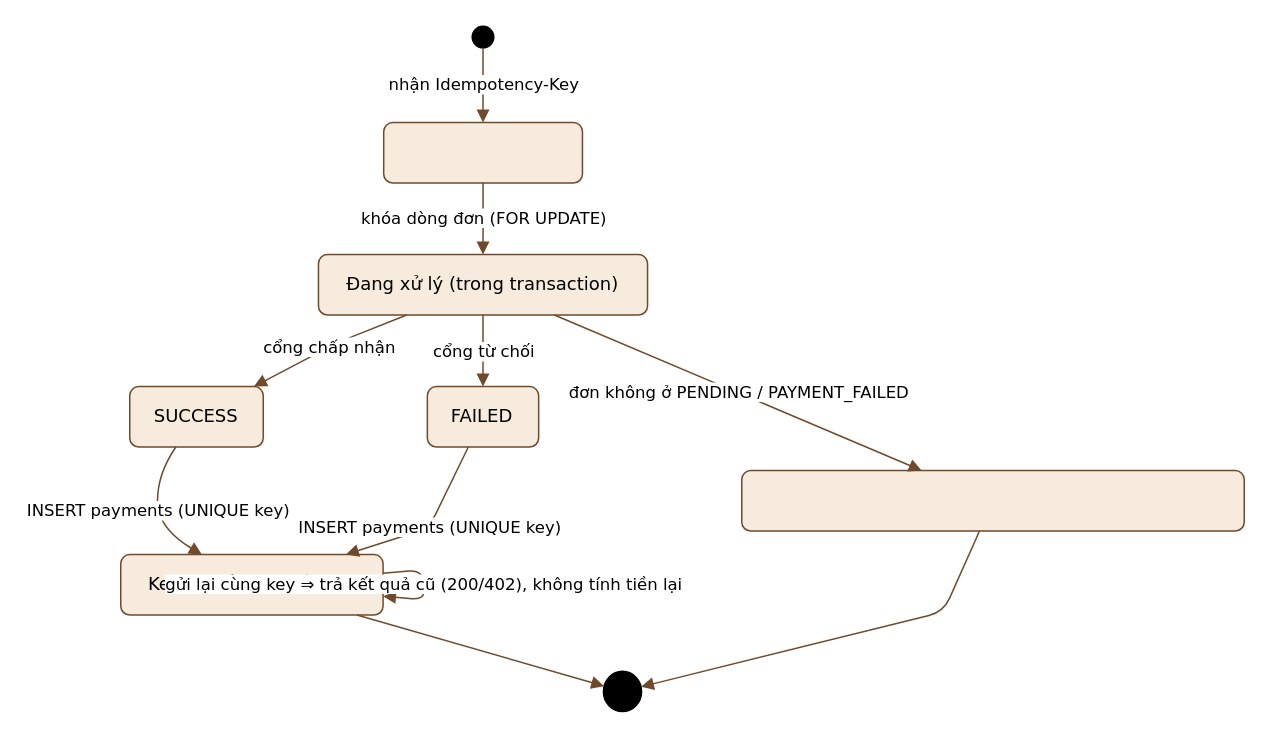
Image size: 1271x738. Some labels were removed from this diagram. Each missing label, with the box of its shape:
409 ORDER_NOT_PAYABLE (không lưu payment): (740, 469, 1244, 531)
Key chưa tồn tại: (382, 121, 582, 183)
